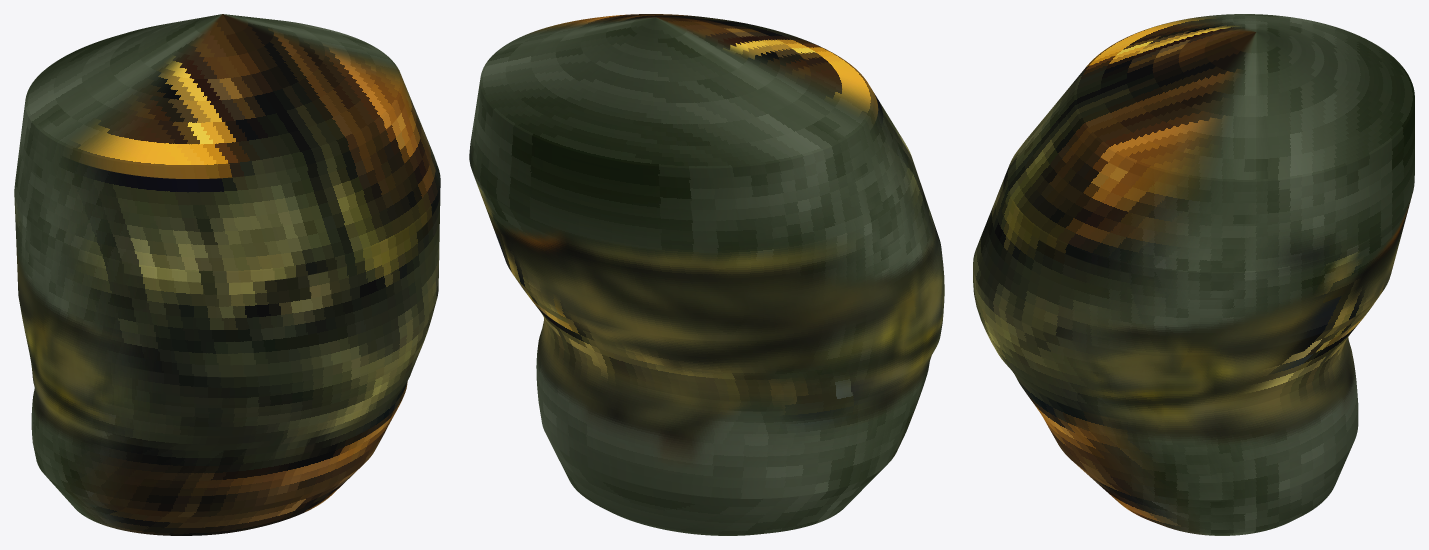
File: far_trousers.glb
3 renders of one model, left to right at view 1: azimuth 30°, elevation 25°; view 2: azimuth 150°, elevation 25°; view 3: azimuth 270°, elevation 25°, orthographic. The views are drawn at different scales.
Visible parts, largest first — view 1: FarTrousers; view 2: FarTrousers; view 3: FarTrousers.
Boxes of the visible parts, x1,y1,x2,y2 form: FarTrousers: [14, 14, 440, 535]; FarTrousers: [469, 14, 944, 535]; FarTrousers: [973, 14, 1414, 535].
Bounding box in the file's own units: 39.98 × 48 × 39.
Materials: 2 (2 with a texture image).
